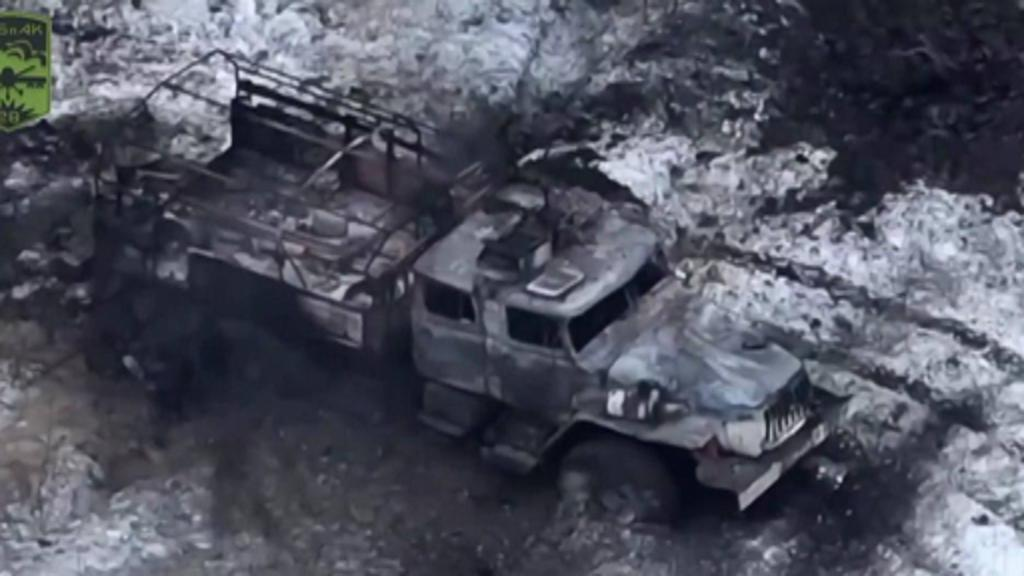TRUCK: (84, 43, 842, 528)
